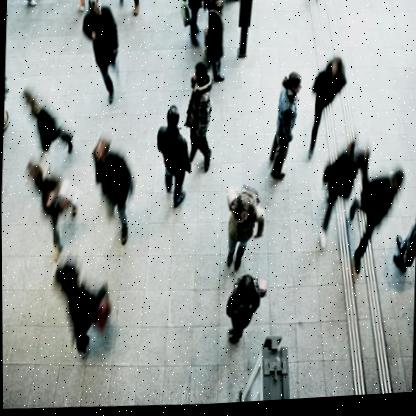person: (43, 252, 134, 373), (19, 156, 93, 266), (68, 0, 137, 111), (86, 127, 147, 249), (352, 152, 404, 278), (12, 81, 87, 167), (147, 102, 203, 217), (212, 178, 276, 277), (312, 130, 365, 247), (302, 43, 348, 158), (263, 66, 306, 187), (218, 273, 278, 349), (183, 60, 219, 171), (197, 0, 236, 88)
